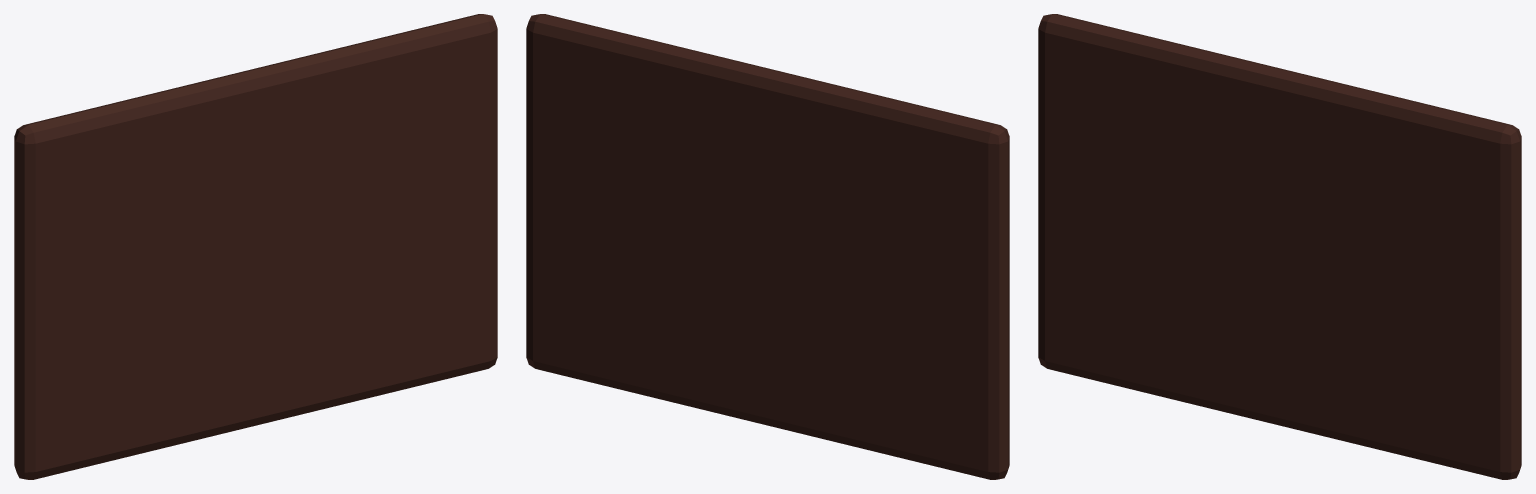
The model's file is Damage_HeatStain.glb.
3 renders of one model, left to right at view 1: azimuth 30°, elevation 25°; view 2: azimuth 150°, elevation 25°; view 3: azimuth 330°, elevation 25°, orthographic.
Parts seen in each view (by area): view 1: Damage_HeatStain; view 2: Damage_HeatStain; view 3: Damage_HeatStain.
Part boxes in pixels (x1,y1,x2,y2): Damage_HeatStain: (14,14,497,479); Damage_HeatStain: (526,14,1009,479); Damage_HeatStain: (1038,14,1521,479).
Bounding box in the file's own units: 0.68 × 0.48 × 0.036.
